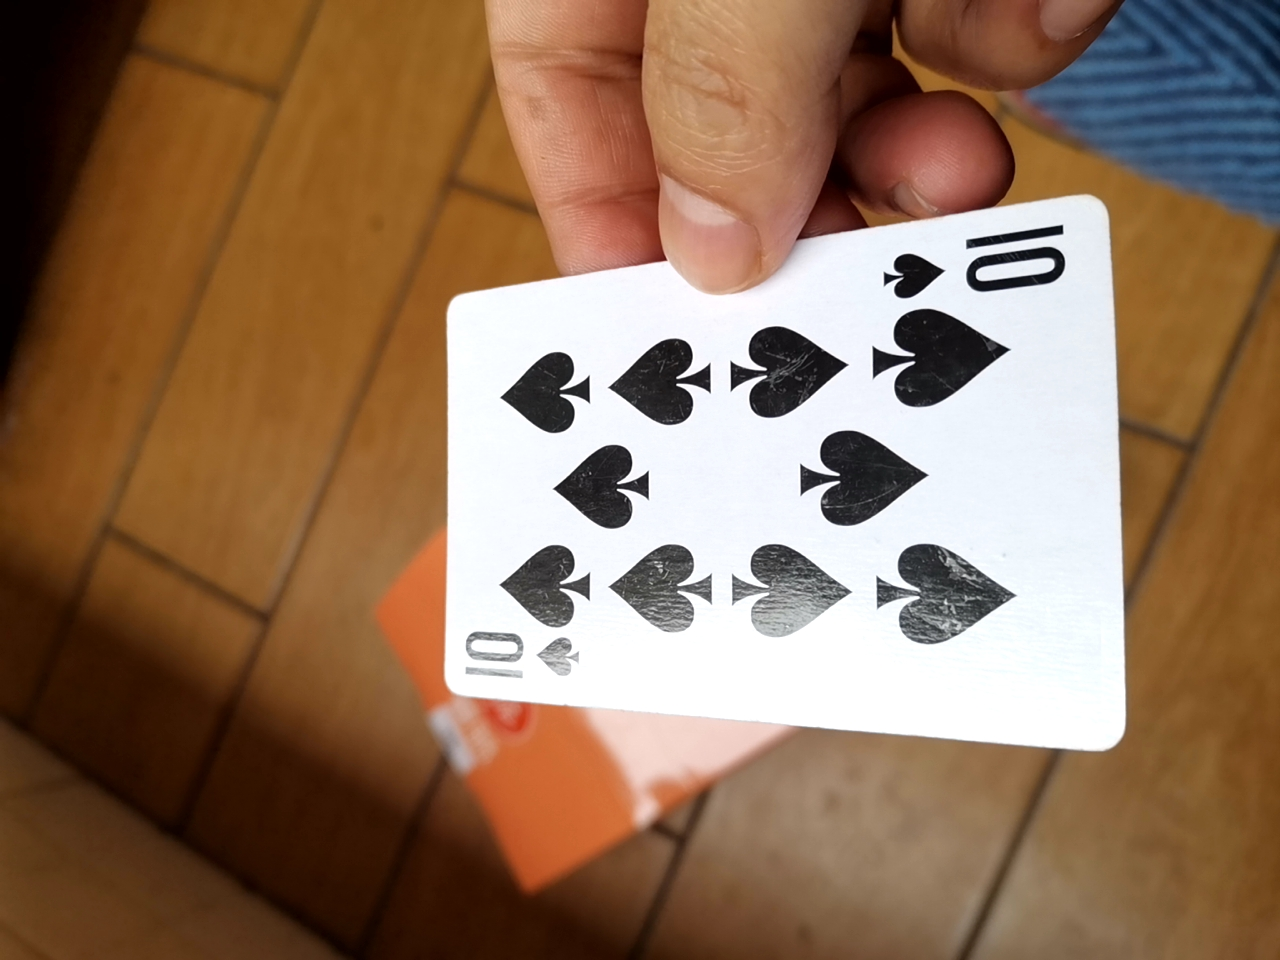ht 10: (409, 192, 1117, 753)
